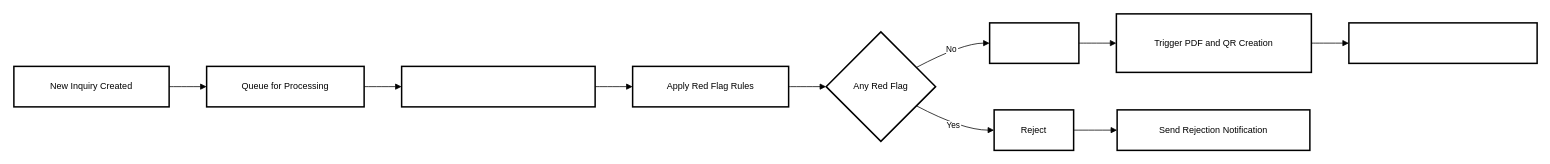
Image size: 1550x164. Some labels were removed from this diagram. The shapes that lost their labels are listed below. From the top down, each one's box as (x1, y1, x2, y2) in pixels, then its label:
(988, 22, 1079, 64): Approve
(1348, 22, 1538, 64): Send Approval Notification
(400, 65, 596, 107): Set Status Under Processing
